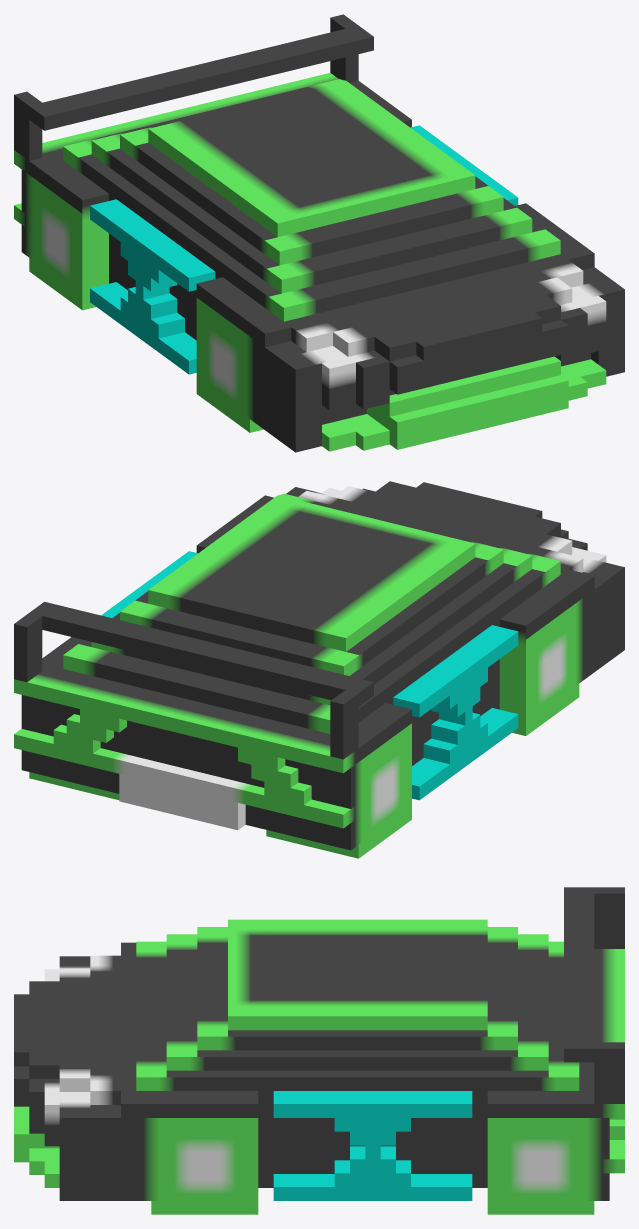
The model's file is Car_28.fbx.
3 views of the same model, one above another, from view 1: azimuth 30°, elevation 25°; view 2: azimuth 150°, elevation 25°; view 3: azimuth 270°, elevation 25° (orthographic).
Visible parts, largest first — view 1: Car_28; view 2: Car_28; view 3: Car_28.
Part boxes in pixels (x1,y1,x2,y2): Car_28: [14, 14, 624, 452]; Car_28: [14, 481, 624, 858]; Car_28: [14, 887, 624, 1214].
Size of the model in its own units: 25 by 12 by 40.
Materials: 1 (1 with a texture image).
